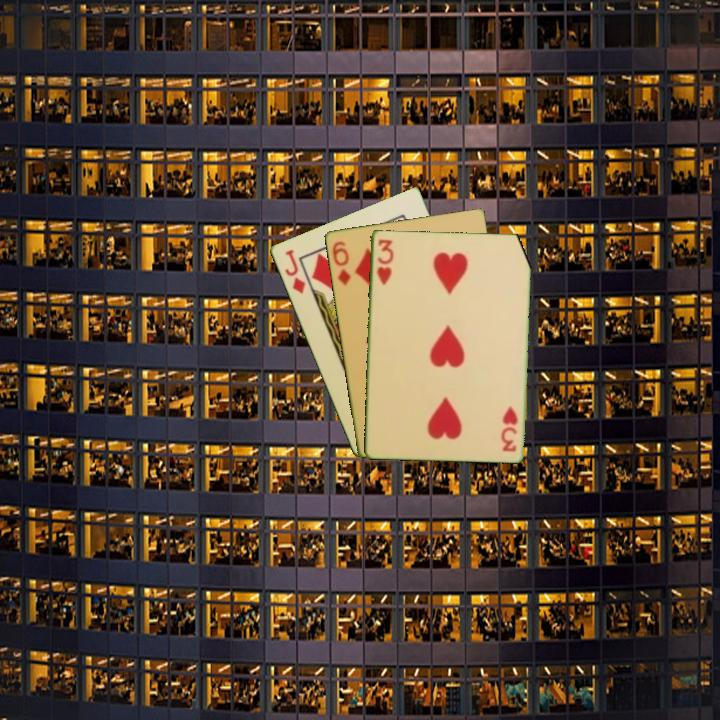3h: (373, 235, 395, 288), (499, 402, 520, 454)
6d: (328, 238, 353, 289)
Jd: (281, 246, 308, 296)
